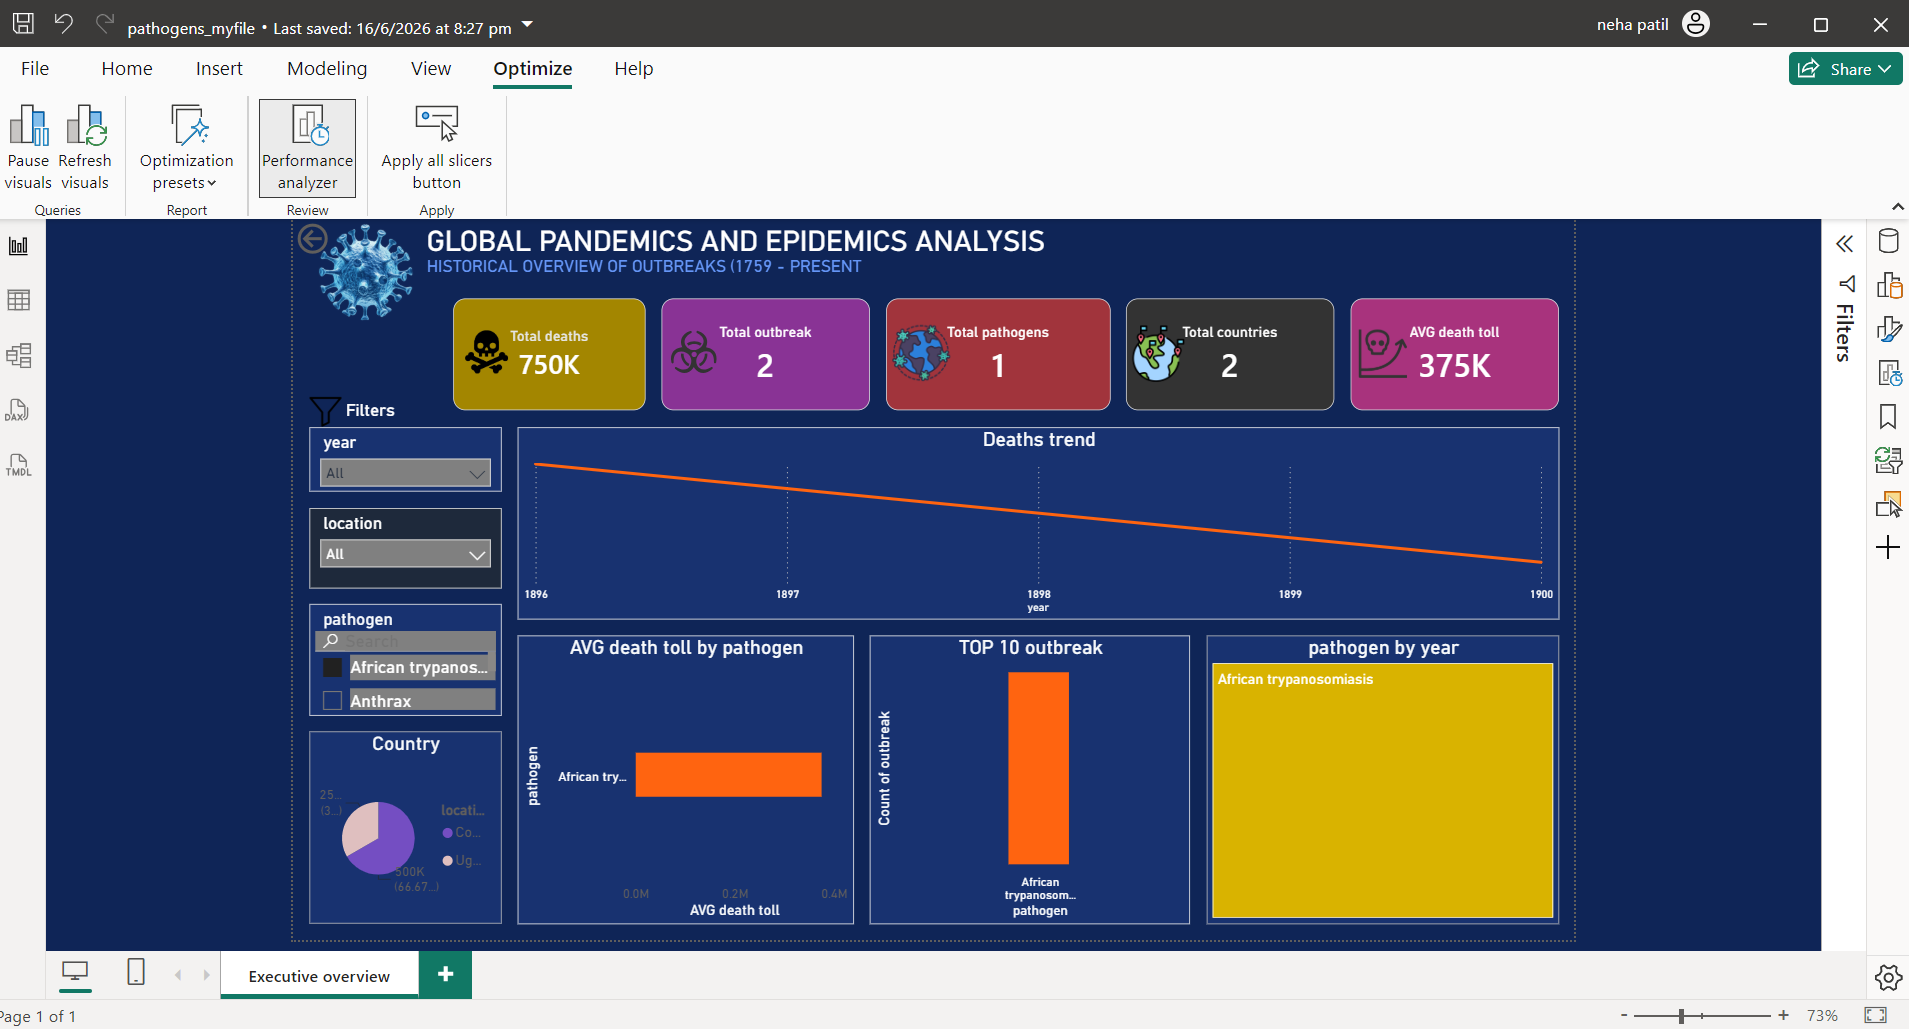

The page's visual inventory and layout, read from the dashboard file:
{"tool":"powerbi","page":{"name":"Executive overview","canvas":[1280,720],"ordinal":0},"visuals":[{"type":"lineChart","title":"Deaths trend","fields":{"Category":["pandemics.year"],"Y":["pandemics.Total deaths"]},"box":[224,208,1040,192],"z":0},{"type":"columnChart","title":"TOP 10 outbreak","fields":{"Category":["pandemics.pathogen"],"Y":["CountNonNull(pandemics.outbreak)"]},"box":[576,416,320,288],"z":1000},{"type":"slicer","fields":{"Values":["pandemics.location"]},"box":[16,288,192,80],"z":2000},{"type":"slicer","fields":{"Values":["pandemics.year"]},"box":[16,208,192,64],"z":3000},{"type":"slicer","fields":{"Values":["pandemics.pathogen"]},"box":[16,384,192,112],"z":4000},{"type":"treemap","title":" pathogen by year","fields":{"Group":["pandemics.pathogen"],"Values":["pandemics.Total deaths"]},"box":[912,416,352,288],"z":5000},{"type":"barChart","fields":{"Category":["pandemics.pathogen"],"Y":["pandemics.AVG death toll"]},"box":[224,416,336,288],"z":6000},{"type":"actionButton","box":[0,0,100,40],"z":7000},{"type":"cardVisual","fields":{"Data":["pandemics.Total deaths"]},"box":[160,80,192,112],"z":8000},{"type":"cardVisual","fields":{"Data":["pandemics.Total outbreak"]},"box":[368,80,208,112],"z":9000},{"type":"cardVisual","fields":{"Data":["pandemics.Total pathogens"]},"box":[592,80,224,112],"z":10000},{"type":"cardVisual","fields":{"Data":["pandemics.Total countries"]},"box":[832,80,208,112],"z":11000},{"type":"cardVisual","fields":{"Data":["pandemics.AVG death toll"]},"box":[1056,80,208,112],"z":12000},{"type":"image","box":[1056,96,64,80],"z":12001},{"type":"image","box":[829,95,64,80],"z":12002},{"type":"image","box":[593,95,64,80],"z":12003},{"type":"image","box":[368,96,64,80],"z":12004},{"type":"image","box":[170,95,48,80],"z":12005},{"type":"image","box":[16,176,32,32],"z":12007},{"type":"textbox","box":[48,176,176,32],"z":12008},{"type":"textbox","box":[128,0,928,80],"z":12009},{"type":"image","box":[16,0,112,112],"z":12010},{"type":"pieChart","title":" Country","fields":{"Category":["pandemics.location"],"Y":["Sum(pandemics.mid_death_toll)"]},"box":[16,512,192,192],"z":12011}]}

Visuals, with their boxes on the page's 1280x720 design canvas (x1, y1, x2, y2). These are canvas units, not pixel positions in the 1909x1029 screenshot, which may show the page scaled, cropped or inside an application window:
"Deaths trend" lineChart: crop(224, 208, 1264, 400)
"TOP 10 outbreak" columnChart: crop(576, 416, 896, 704)
slicer - pandemics.location: crop(16, 288, 208, 368)
slicer - pandemics.year: crop(16, 208, 208, 272)
slicer - pandemics.pathogen: crop(16, 384, 208, 496)
" pathogen by year" treemap: crop(912, 416, 1264, 704)
barChart - pandemics.pathogen x pandemics.AVG death toll: crop(224, 416, 560, 704)
actionButton: crop(0, 0, 100, 40)
cardVisual - pandemics.Total deaths: crop(160, 80, 352, 192)
cardVisual - pandemics.Total outbreak: crop(368, 80, 576, 192)
cardVisual - pandemics.Total pathogens: crop(592, 80, 816, 192)
cardVisual - pandemics.Total countries: crop(832, 80, 1040, 192)
cardVisual - pandemics.AVG death toll: crop(1056, 80, 1264, 192)
image: crop(1056, 96, 1120, 176)
image: crop(829, 95, 893, 175)
image: crop(593, 95, 657, 175)
image: crop(368, 96, 432, 176)
image: crop(170, 95, 218, 175)
image: crop(16, 176, 48, 208)
textbox: crop(48, 176, 224, 208)
textbox: crop(128, 0, 1056, 80)
image: crop(16, 0, 128, 112)
" Country" pieChart: crop(16, 512, 208, 704)
